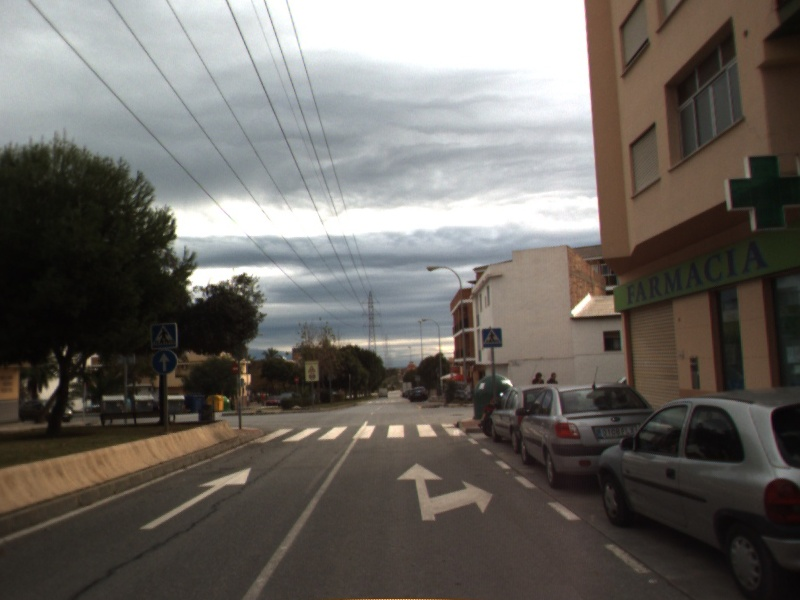STRAIGHT: (137, 465, 253, 531)
STRAIGHT_RIGHT: (395, 461, 495, 523)
